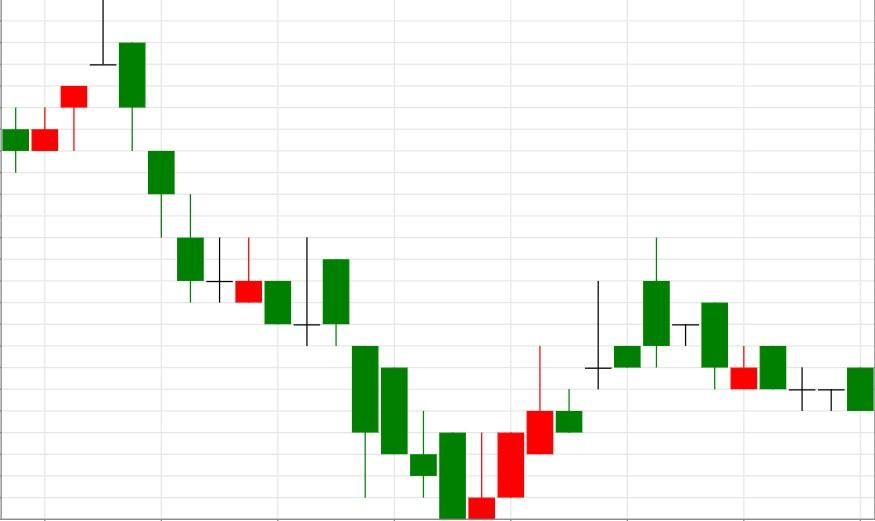inverse_hammer_rise: (292, 238, 496, 520), (89, 0, 263, 304)
